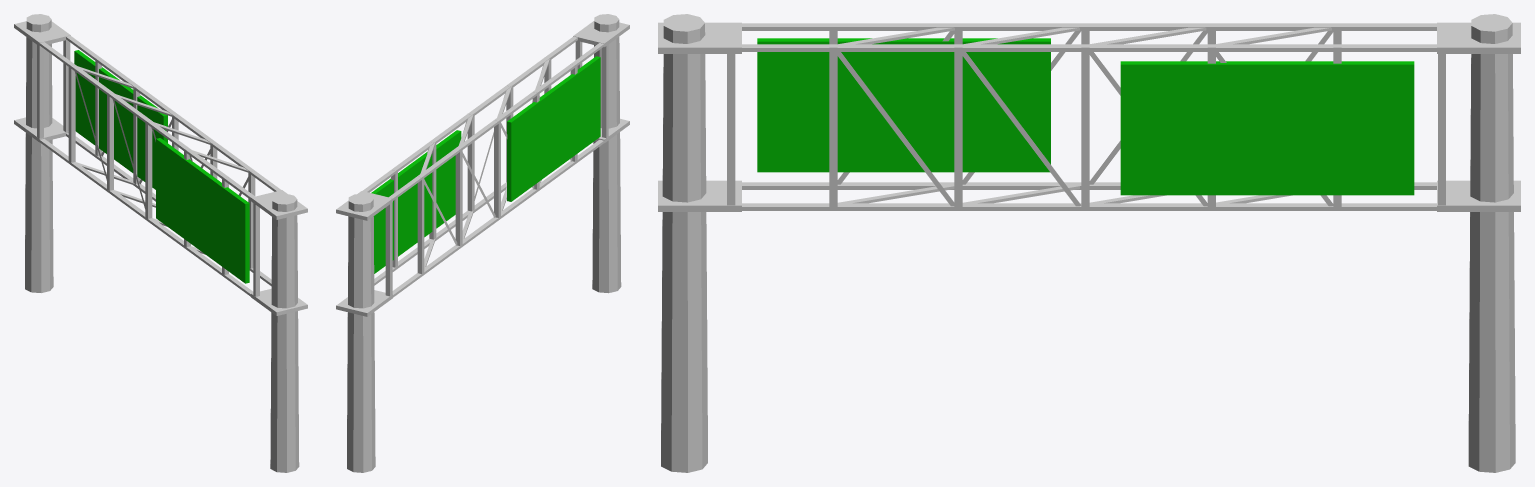
File: HighwaySign.fbx
3 renders of one model, left to right at view 1: azimuth 30°, elevation 25°; view 2: azimuth 150°, elevation 25°; view 3: azimuth 270°, elevation 25°, orthographic. The views are drawn at different scales.
Parts seen in each view (by area): view 1: HighwaySignHolder, HighwaySignFront; view 2: HighwaySignHolder, HighwaySignFront; view 3: HighwaySignHolder, HighwaySignFront.
Boxes of the visible parts, bbox=[...] form: HighwaySignHolder: bbox=[14, 14, 307, 472]; HighwaySignFront: bbox=[74, 50, 249, 283]; HighwaySignHolder: bbox=[336, 14, 629, 472]; HighwaySignFront: bbox=[371, 56, 600, 273]; HighwaySignHolder: bbox=[658, 14, 1520, 472]; HighwaySignFront: bbox=[757, 38, 1414, 195].
Size of the model in its own units: 149 by 1156 by 2055.
